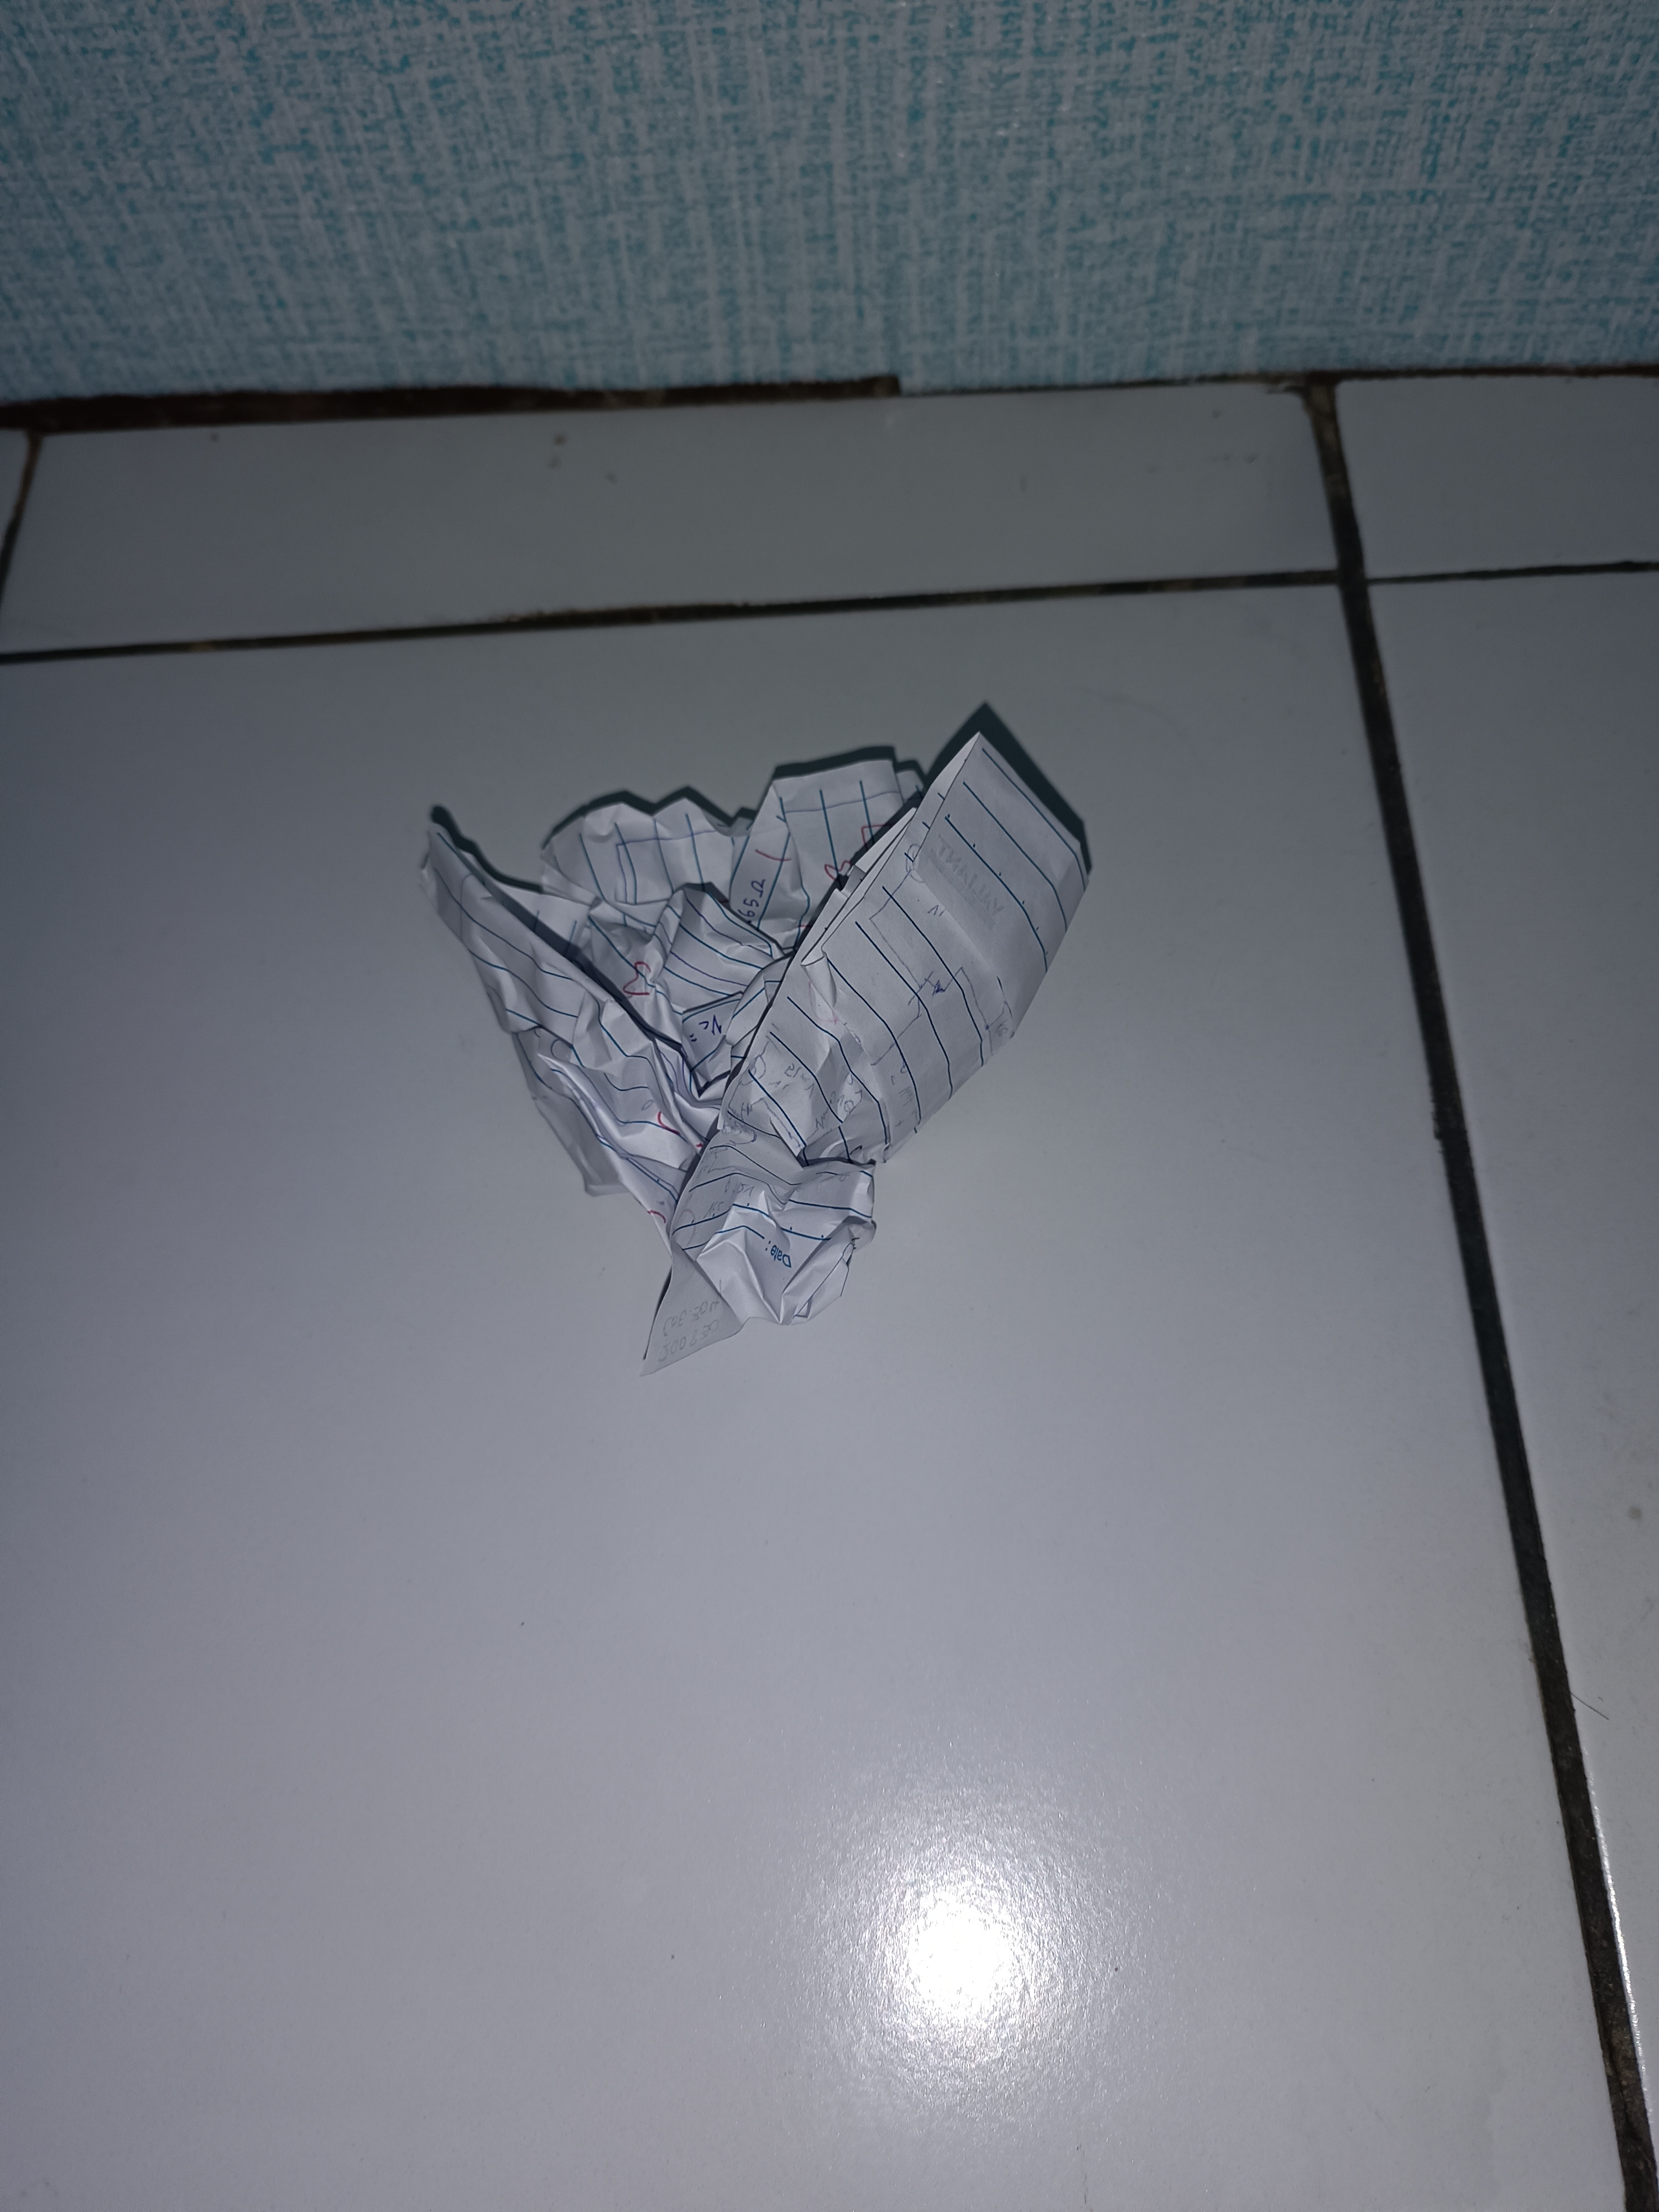Paper: (380, 681, 1180, 1453)
